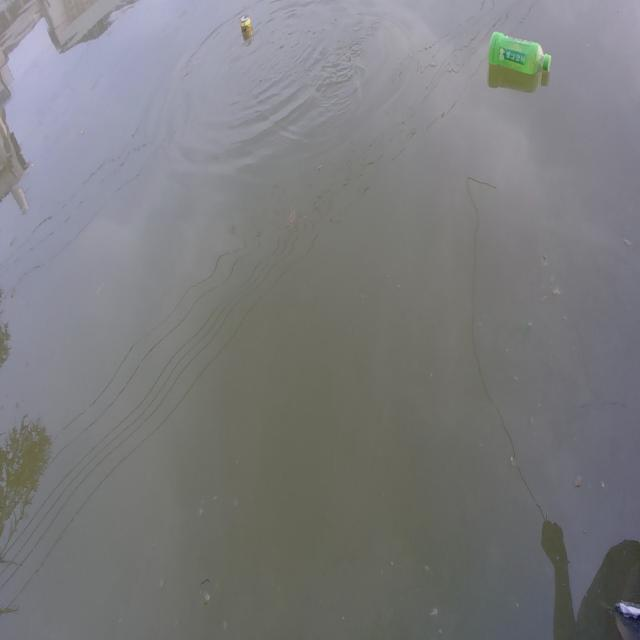bottle: (480, 16, 560, 88)
